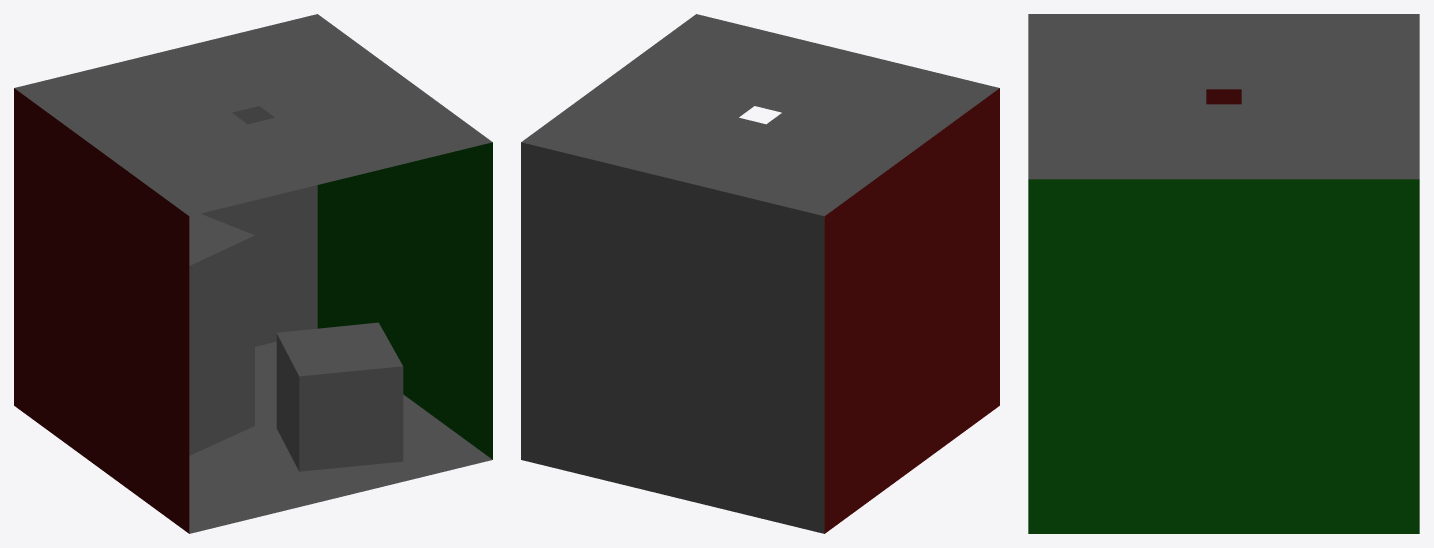
Rendered from cornell.obj.
The picture shows the model from 3 angles, left to right: view 1: azimuth 30°, elevation 25°; view 2: azimuth 150°, elevation 25°; view 3: azimuth 270°, elevation 25°; orthographic projection. The views are drawn at different scales.
Visible parts, largest first — view 1: Mesh_Mesh_cornell; view 2: Mesh_Mesh_cornell; view 3: Mesh_Mesh_cornell.
Boxes of the visible parts, x1,y1,x2,y2 form: Mesh_Mesh_cornell: (14, 14, 492, 533); Mesh_Mesh_cornell: (521, 14, 999, 533); Mesh_Mesh_cornell: (1028, 14, 1419, 533).
Bounding box in the file's own units: 5.5 × 5.51 × 5.5.
